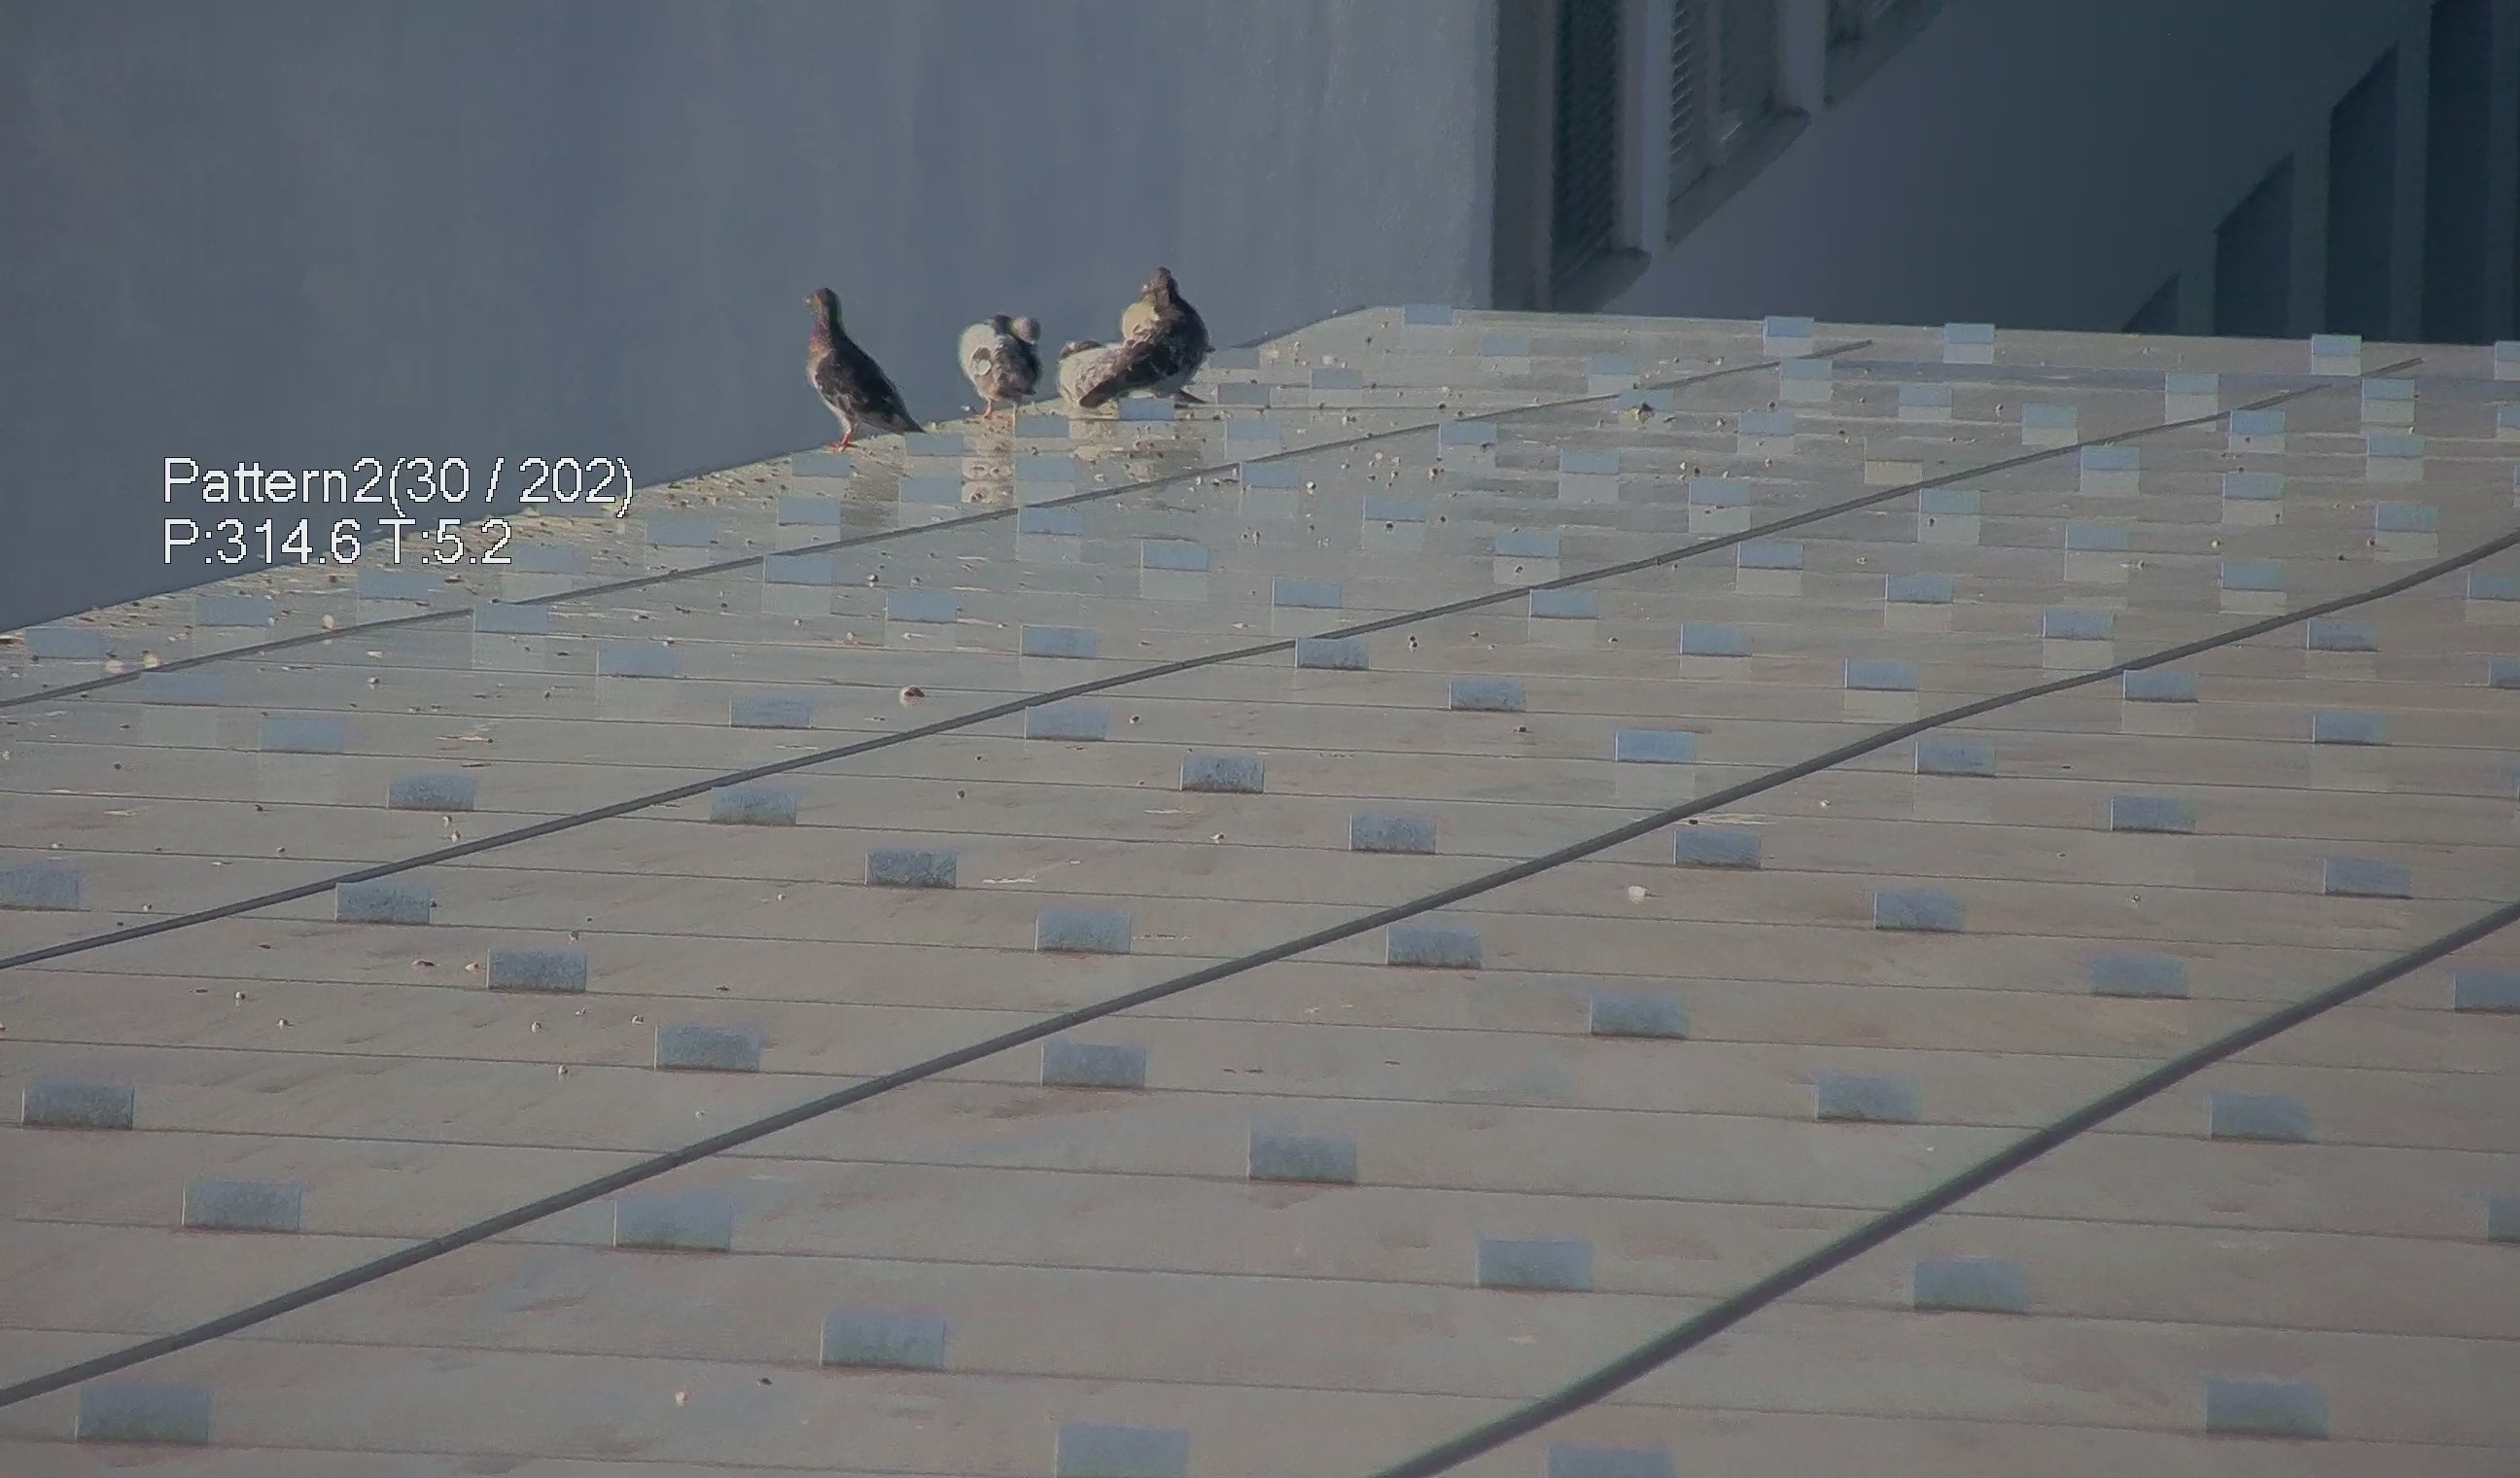Pigeon: (1057, 255, 1222, 424), (784, 273, 930, 443), (950, 301, 1052, 408), (1059, 334, 1118, 412)
